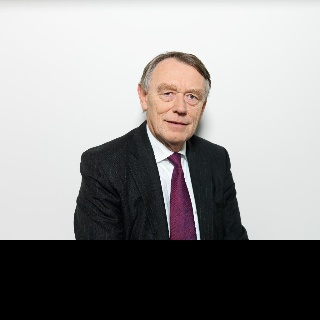without_mask: (147, 59, 205, 141)
